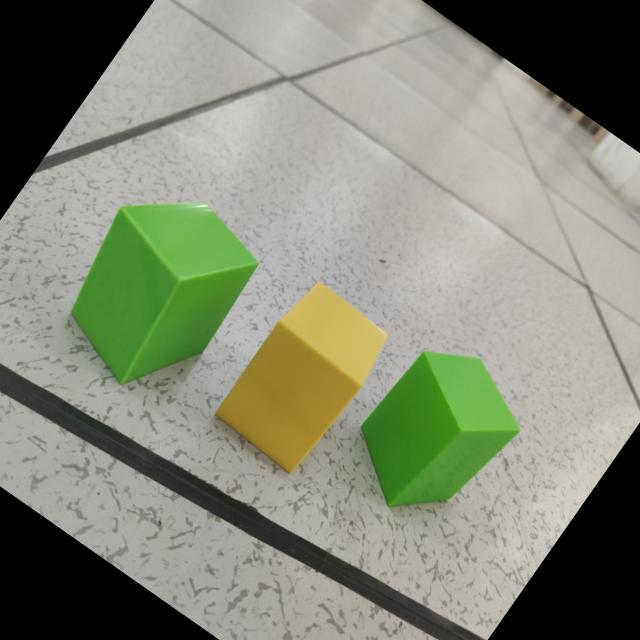green: (68, 204, 257, 385), (359, 351, 518, 509)
yellow: (213, 283, 386, 473)
